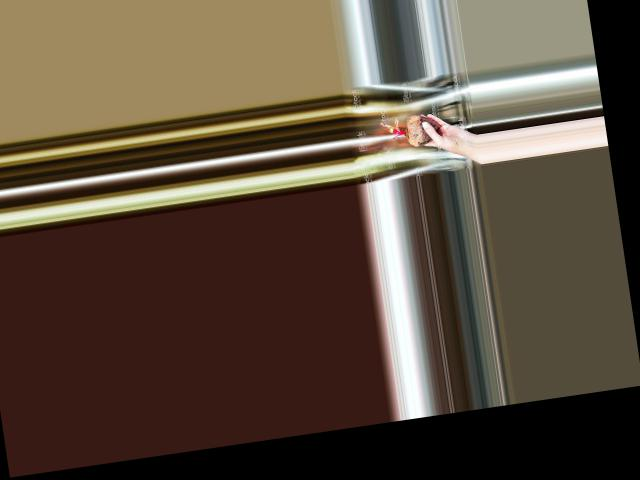beet: (380, 111, 442, 150)
